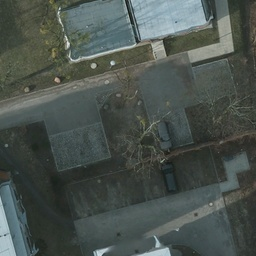car: (161, 157, 180, 193), (155, 119, 173, 150)
